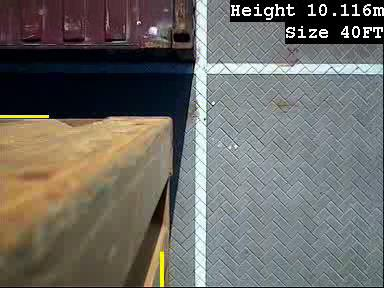groundmarker_2: (170, 70, 229, 102), (170, 209, 229, 240)
